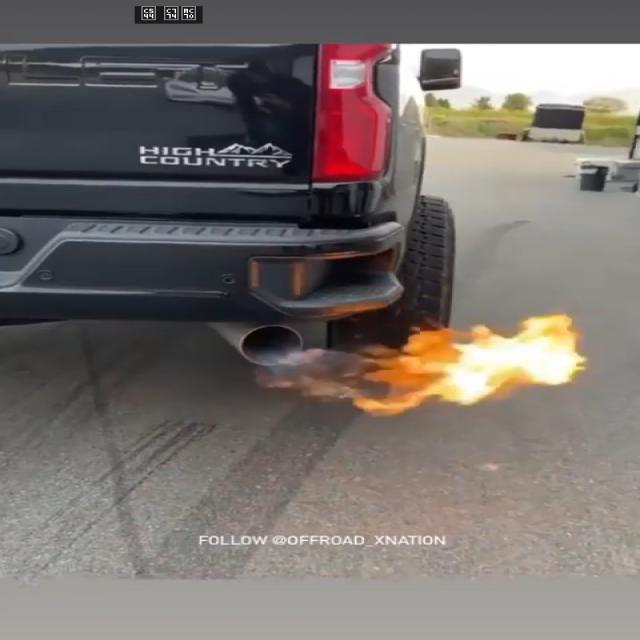fire: (255, 315, 585, 416)
